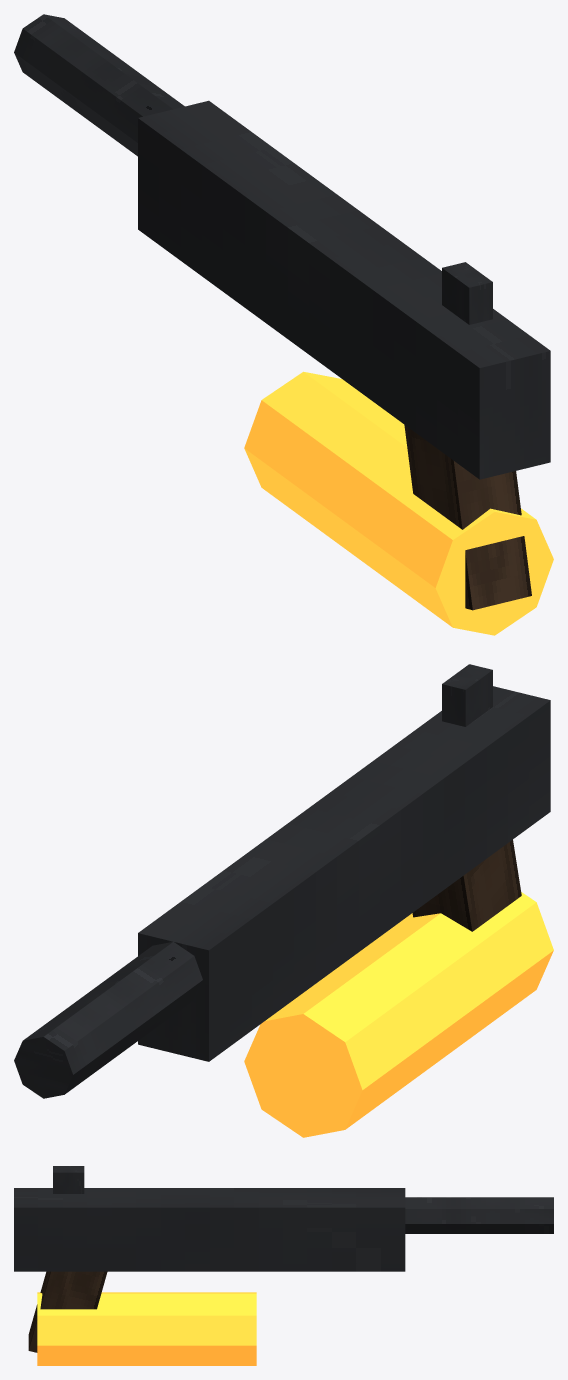
Rendered from gun_flamer.glb.
3 renders of one model, top to bottom at view 1: azimuth 30°, elevation 25°; view 2: azimuth 150°, elevation 25°; view 3: azimuth 270°, elevation 25°, orthographic. The views are drawn at different scales.
Visible parts, largest first — view 1: Gun_flamer; view 2: Gun_flamer; view 3: Gun_flamer.
Boxes of the visible parts, left/top/right/bottom form: Gun_flamer: left=14, top=14, right=553, bottom=635; Gun_flamer: left=14, top=664, right=553, bottom=1137; Gun_flamer: left=14, top=1166, right=553, bottom=1365.
Bounding box in the file's own units: 0.1 × 0.275 × 0.69.
Materials: 3 (2 with a texture image).
